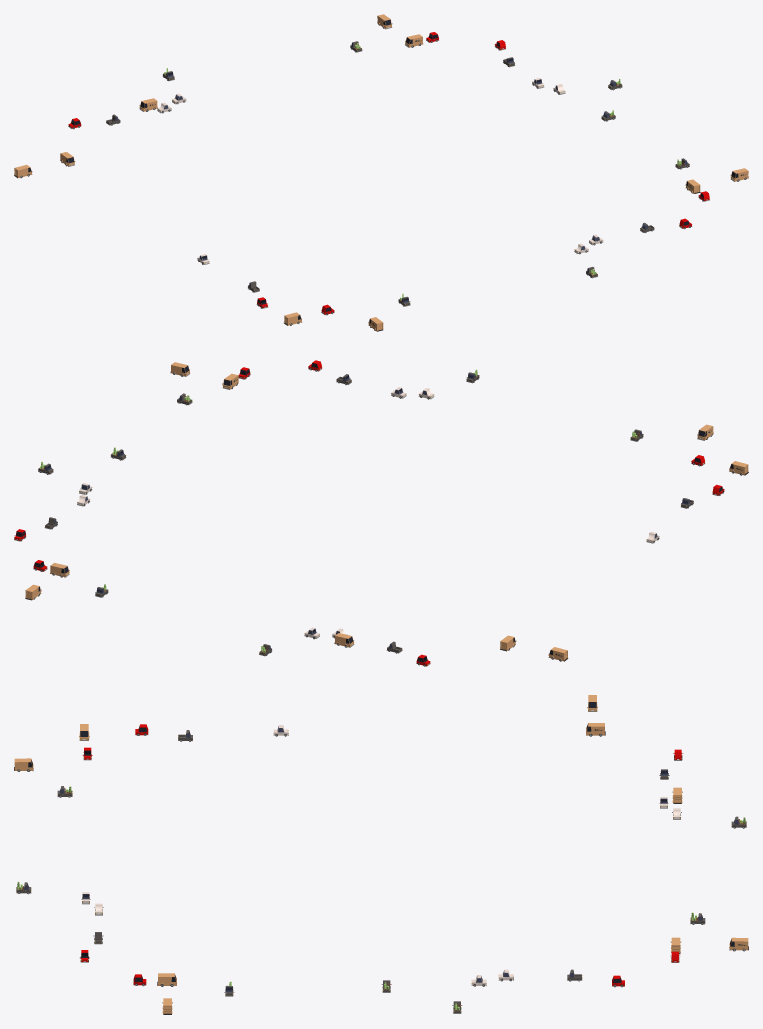
File: Cars.fbx
3 renders of one model, top to bottom at view 1: azimuth 30°, elevation 25°; view 2: azimuth 150°, elevation 25°; view 3: azimuth 270°, elevation 25°, orthographic. The views are drawn at different scales.
Bounding box in the file's own units: 3053 × 45.99 × 3048.
